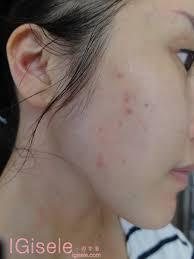fore: (94, 154, 112, 175), (115, 88, 137, 103), (117, 104, 135, 120), (112, 66, 129, 81)
